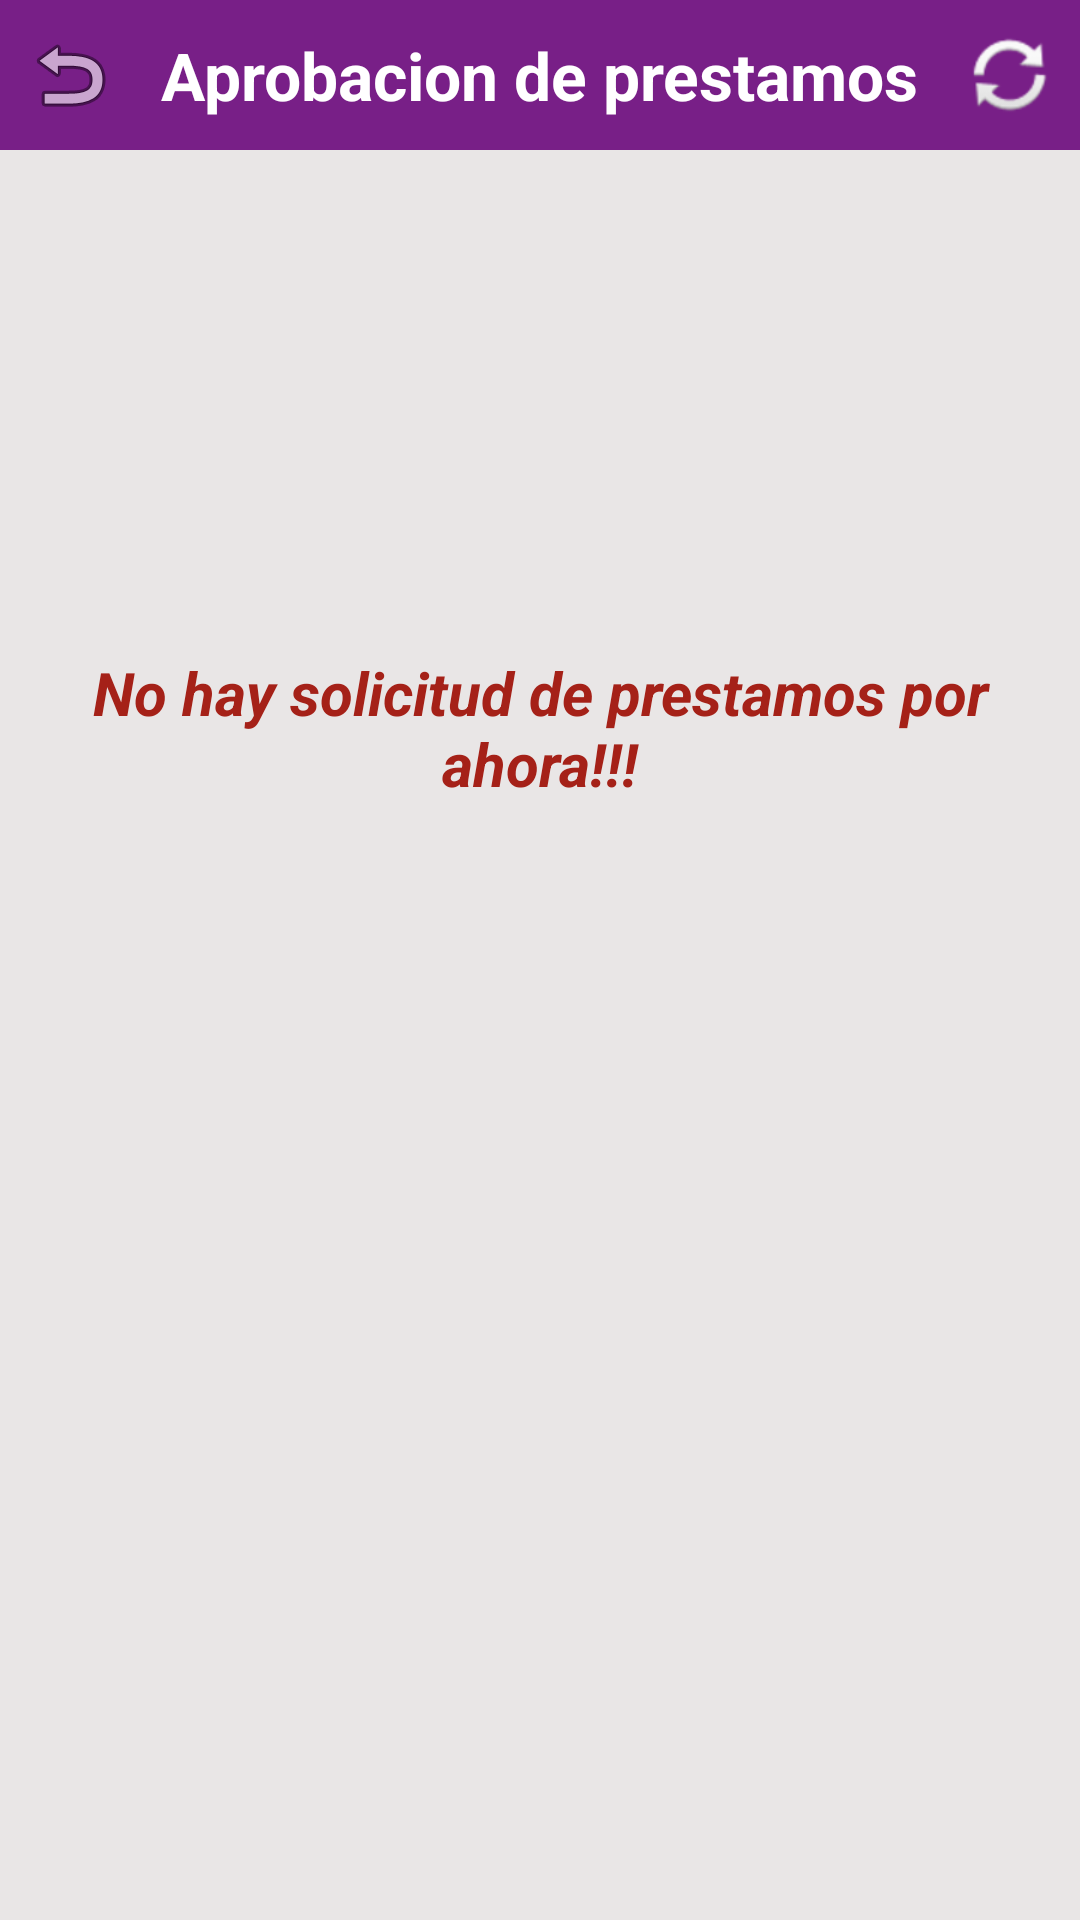

Icon bounding boxes for this 1080×1920 phone screenshot, format rect(x1, y1, x2, y2):
popup sync: rect(973, 39, 1046, 111)
revert: rect(37, 45, 106, 107)
